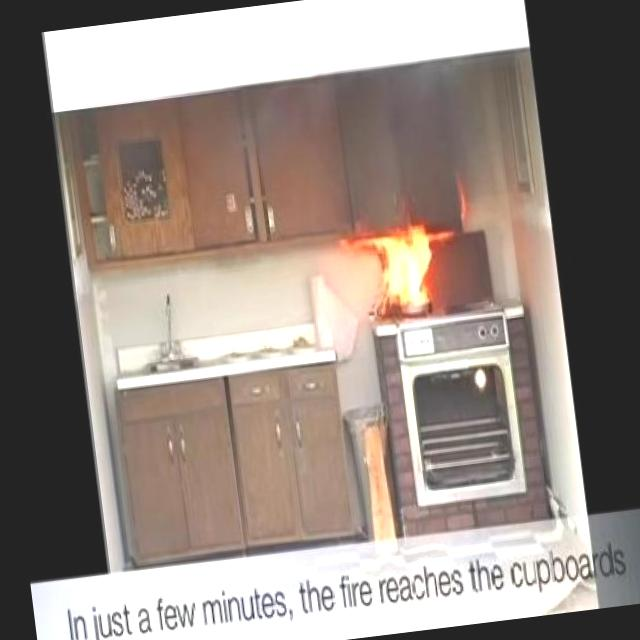fire: (344, 198, 494, 362)
